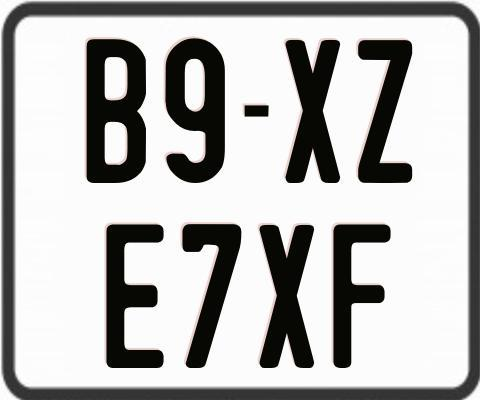7: (179, 221, 242, 370)
9: (165, 36, 230, 187)
B: (86, 36, 151, 184)
E: (106, 223, 167, 370)
F: (333, 221, 395, 367)
X: (257, 222, 318, 368), (283, 38, 343, 182)
Z: (357, 39, 417, 187)
